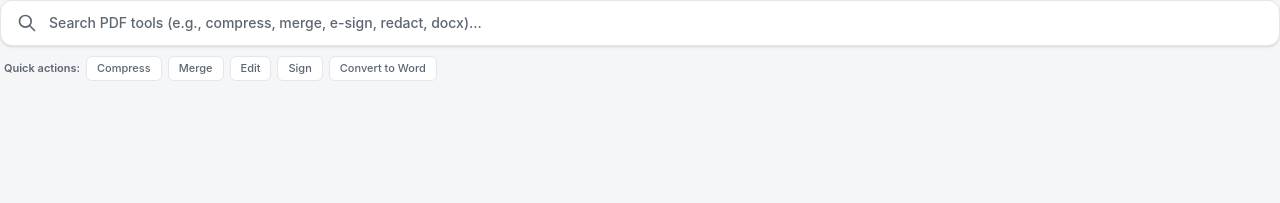
Test case: UI Redesign Component Tests › ToolSearch Component › displays no-results message and clear button for unknown queries
Replace the text in the search field with placeholder "Search PDF tools" with "xyznonexistent123": (656, 23) [49,13,1263,33]
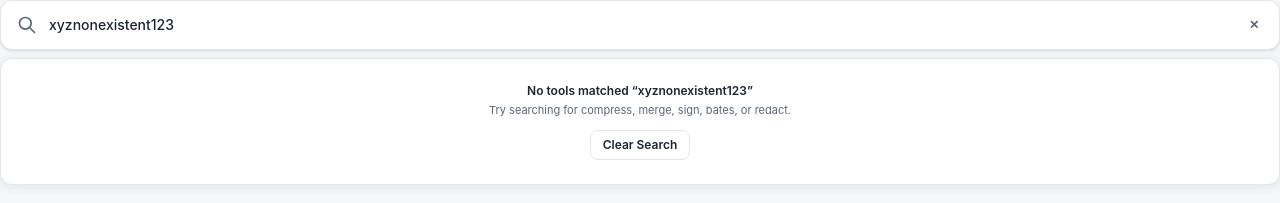
Check: the text "No tools matched “xyznonexistent123”" is shown, box [527,83,753,98]
Check: the button "Clear Search" is shown, box [590,130,690,160]
